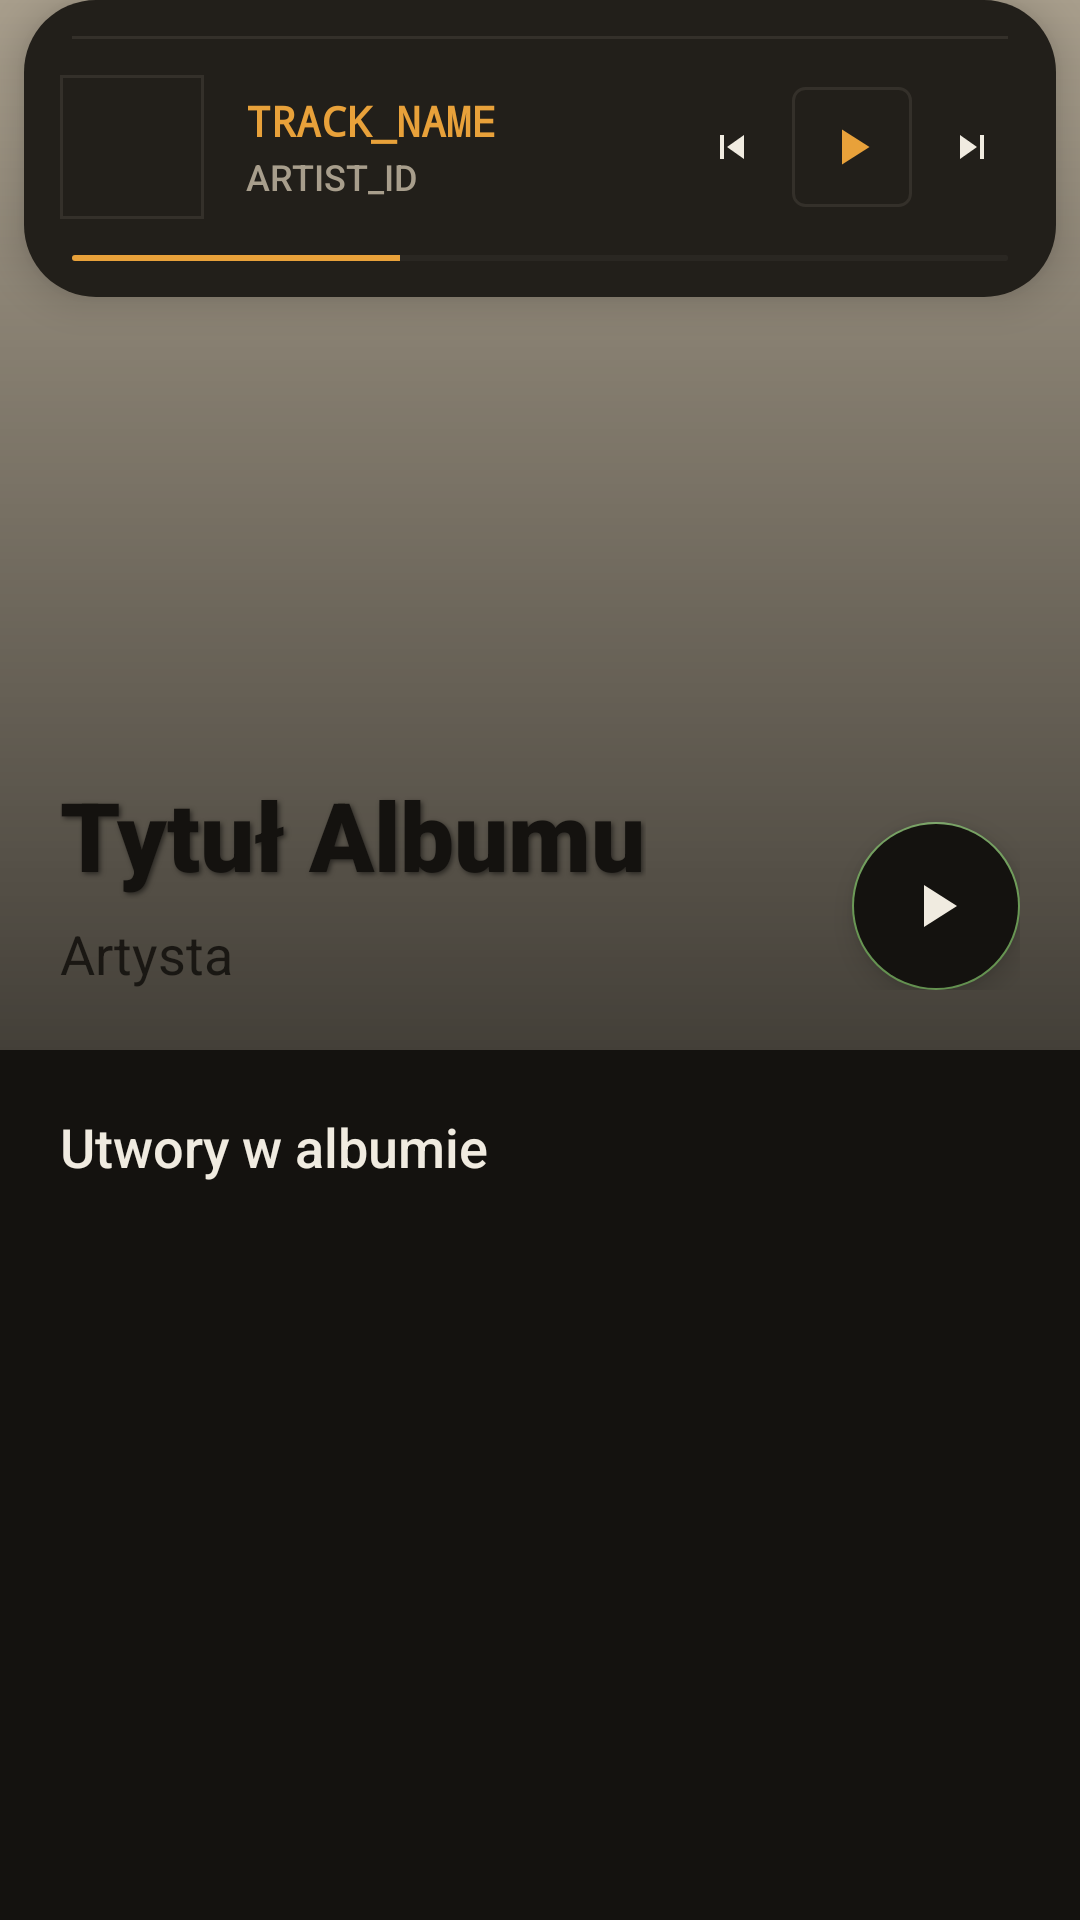

Icons on this 1080 x 1920 Android screen, each with its box as (x1, y1, x2, y2):
play: (842, 129, 869, 165), (852, 822, 1020, 990)
skip previous: (720, 135, 744, 159)
